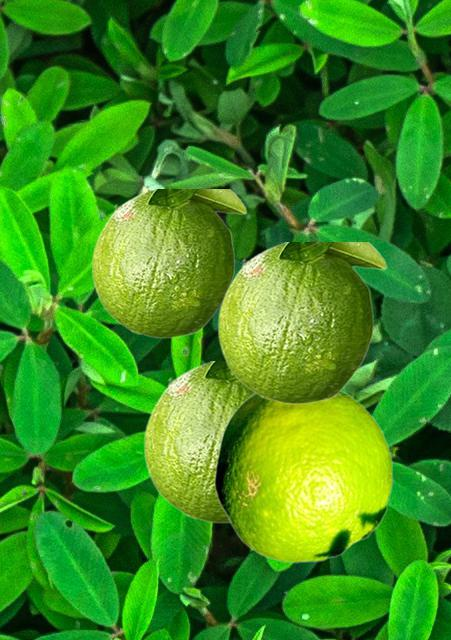dalandan: (214, 390, 392, 562), (217, 242, 386, 403), (91, 189, 246, 337), (143, 361, 252, 522)
